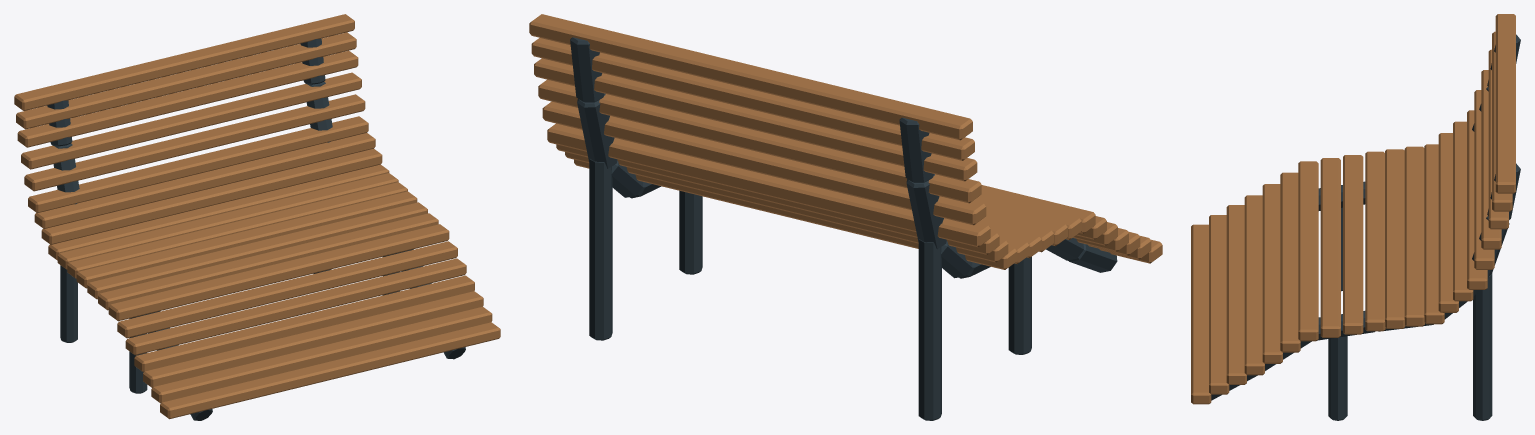
The model's file is b01_wave_public_lounge_bench.glb.
The picture shows the model from 3 angles, left to right: view 1: azimuth 30°, elevation 25°; view 2: azimuth 150°, elevation 25°; view 3: azimuth 270°, elevation 25°; orthographic projection. The views are drawn at different scales.
Visible parts, largest first — view 1: b01_wave_public_lounge_bench; view 2: b01_wave_public_lounge_bench; view 3: b01_wave_public_lounge_bench.
Boxes of the visible parts, left/top/right/bottom form: b01_wave_public_lounge_bench: left=14, top=14, right=500, bottom=420; b01_wave_public_lounge_bench: left=529, top=14, right=1162, bottom=420; b01_wave_public_lounge_bench: left=1191, top=14, right=1520, bottom=420.
Size of the model in its own units: 1.5 by 1.05 by 1.23.
